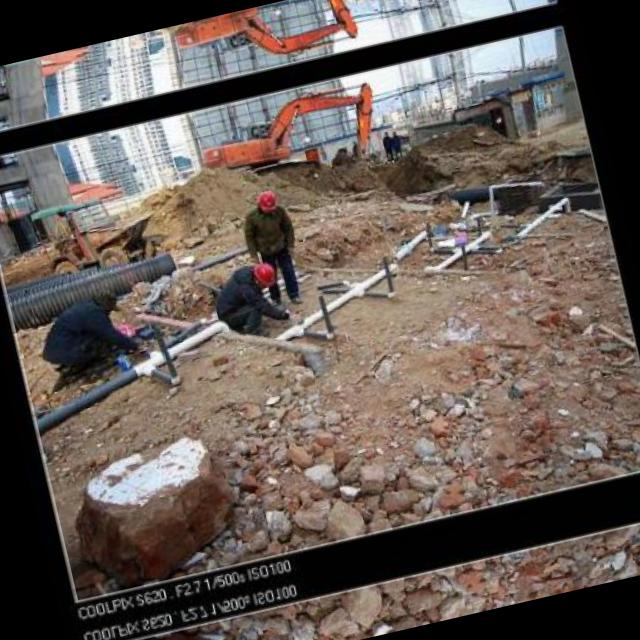helmet: (246, 256, 276, 294), (253, 190, 279, 216)
